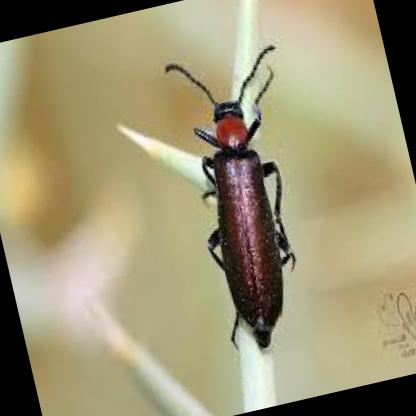blister beetle: (163, 48, 294, 351)
